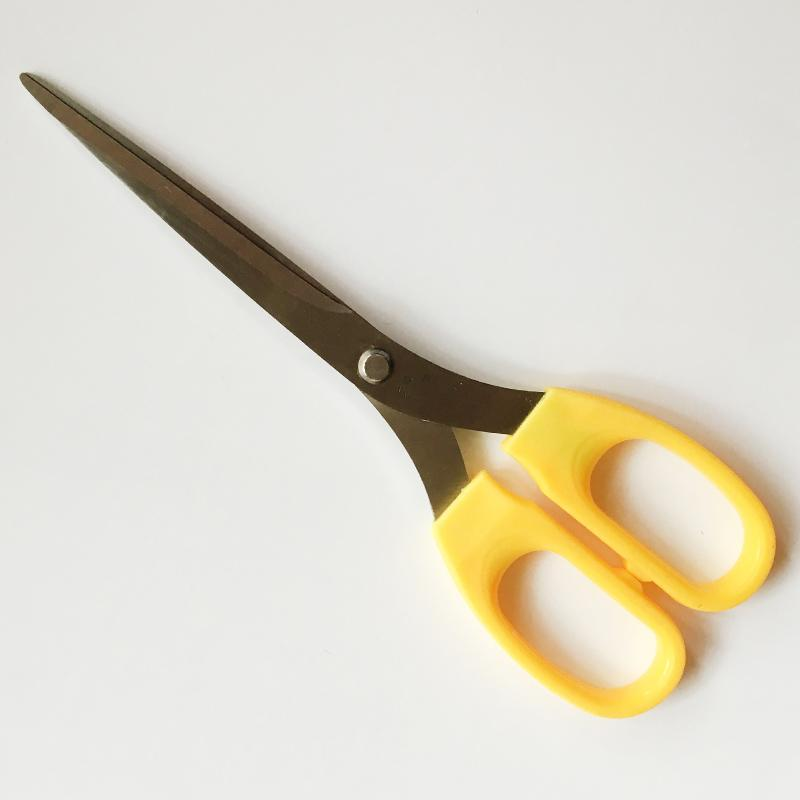scissor: (33, 57, 798, 729)
